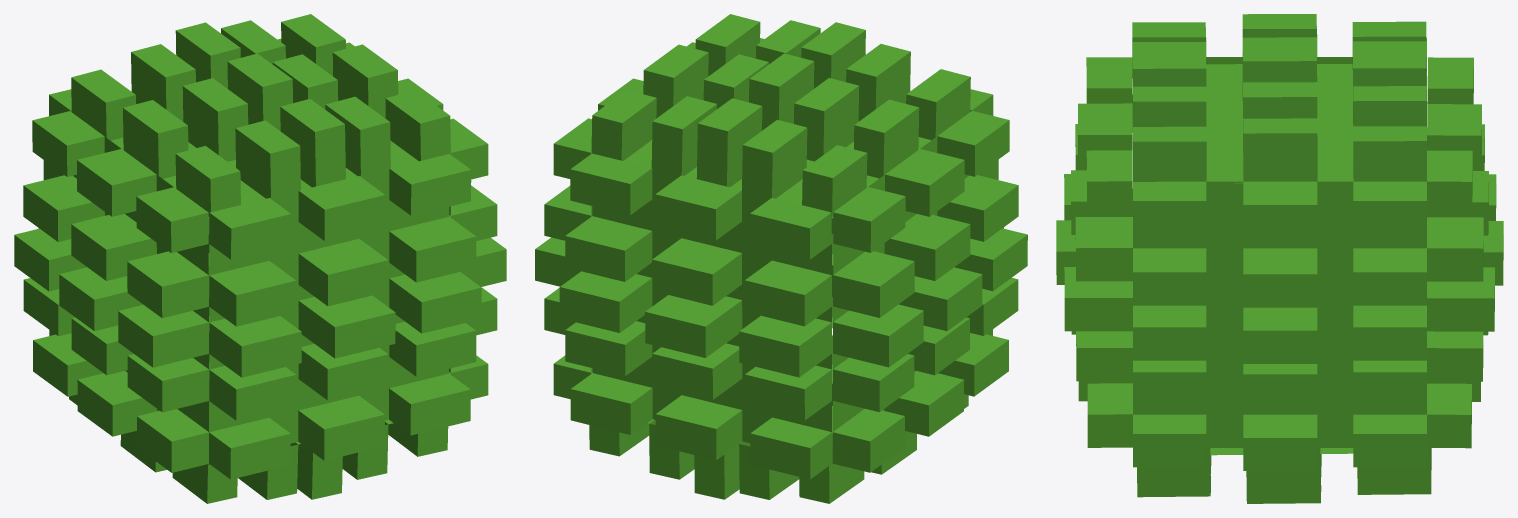
The model's file is planta.fbx.
3 renders of one model, left to right at view 1: azimuth 30°, elevation 25°; view 2: azimuth 150°, elevation 25°; view 3: azimuth 270°, elevation 25°, orthographic. The views are drawn at different scales.
Visible parts, largest first — view 1: Cubo.007; view 2: Cubo.007; view 3: Cubo.007.
Part boxes in pixels (left/top/right/bottom): Cubo.007: left=14, top=14, right=506, bottom=503; Cubo.007: left=535, top=14, right=1027, bottom=503; Cubo.007: left=1056, top=14, right=1503, bottom=503.
Size of the model in its own units: 271 by 271 by 270.
